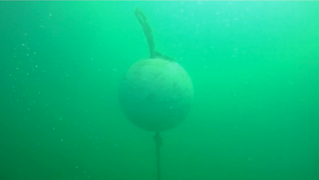buoy: (118, 58, 194, 132)
